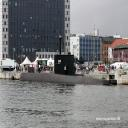submarine: (20, 55, 118, 86)
